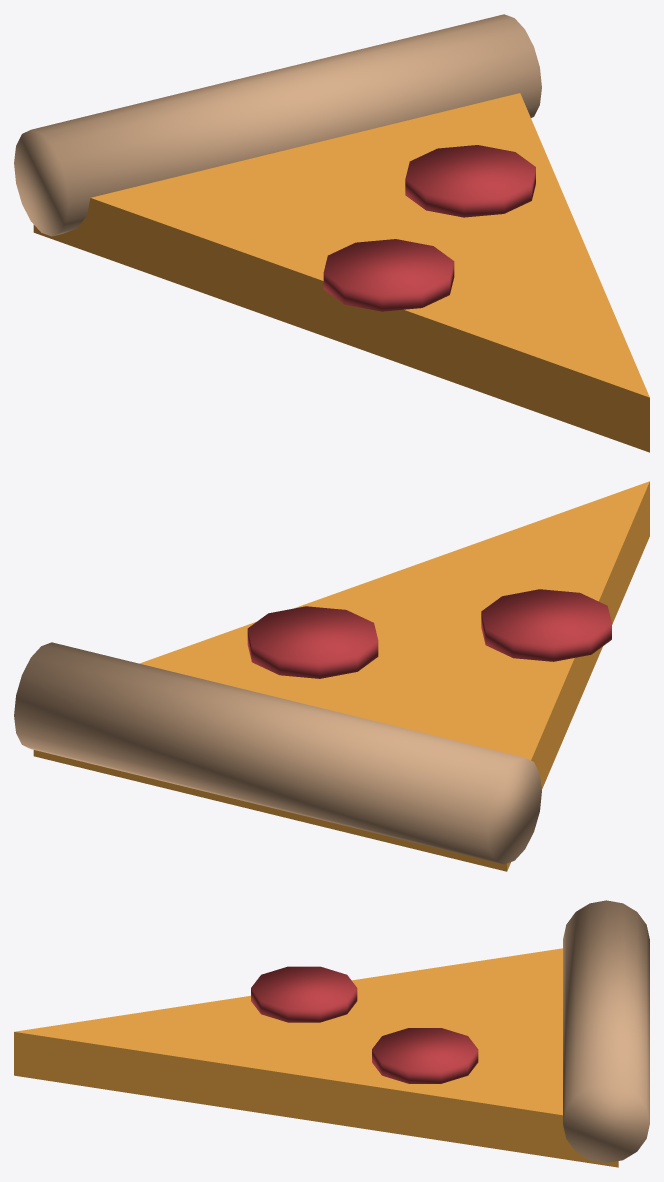
File: food_pizza.glb
3 views of the same model, one above another, from view 1: azimuth 30°, elevation 25°; view 2: azimuth 150°, elevation 25°; view 3: azimuth 270°, elevation 25° (orthographic). The views are drawn at different scales.
Parts seen in each view (by area): view 1: food_pizza, food_pizza_crust, food_pizza_pep1, food_pizza_pep0; view 2: food_pizza_crust, food_pizza, food_pizza_pep0, food_pizza_pep1; view 3: food_pizza, food_pizza_crust, food_pizza_pep1, food_pizza_pep0.
Boxes of the visible parts, left/top/right/bottom form: food_pizza: left=33, top=93, right=649, bottom=452; food_pizza_crust: left=14, top=14, right=541, bottom=236; food_pizza_pep1: left=323, top=239, right=454, bottom=311; food_pizza_pep0: left=405, top=145, right=535, bottom=217; food_pizza_crust: left=14, top=642, right=541, bottom=864; food_pizza: left=33, top=481, right=649, bottom=871; food_pizza_pep0: left=247, top=606, right=378, bottom=678; food_pizza_pep1: left=481, top=589, right=611, bottom=661; food_pizza: left=14, top=948, right=618, bottom=1167; food_pizza_crust: left=563, top=900, right=649, bottom=1163; food_pizza_pep1: left=251, top=966, right=357, bottom=1022; food_pizza_pep0: left=372, top=1028, right=478, bottom=1083.
Bounding box in the file's own units: 0.18 × 0.038 × 0.263.
